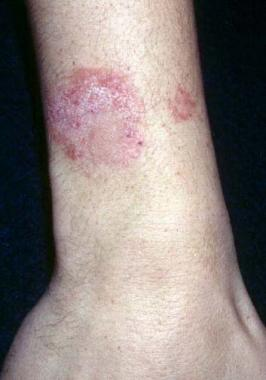Eczema: (51, 58, 185, 167)
